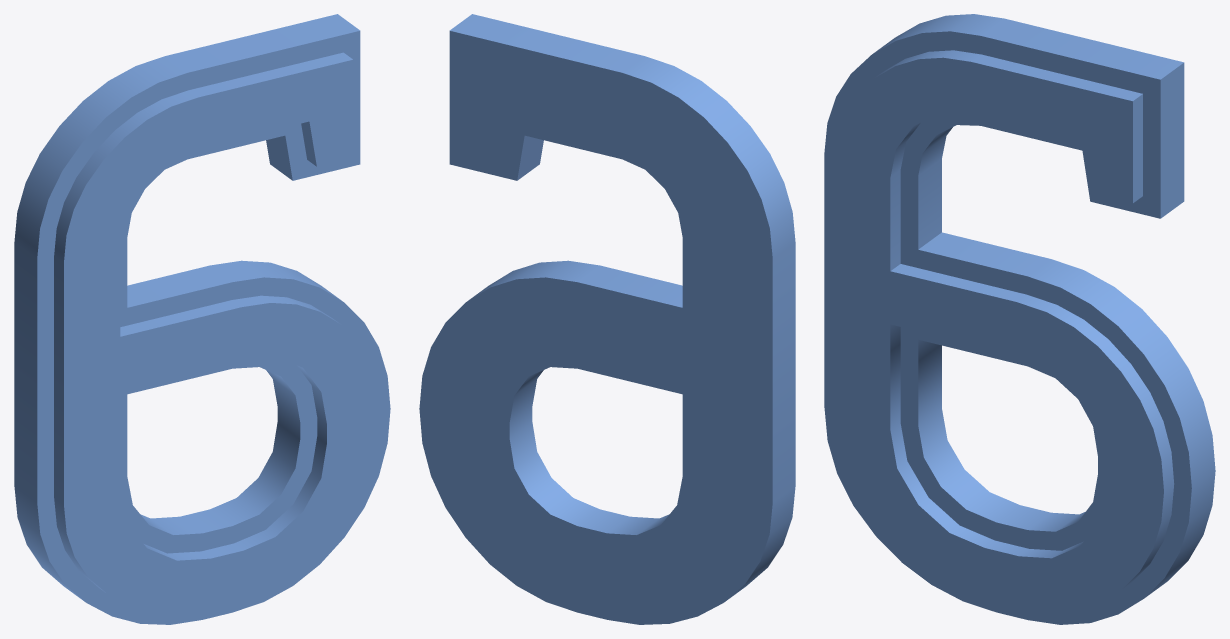
3 renders of one model, left to right at view 1: azimuth 30°, elevation 25°; view 2: azimuth 150°, elevation 25°; view 3: azimuth 330°, elevation 25°, orthographic. The views are drawn at different scales.
Parts seen in each view (by area): view 1: 6; view 2: 6; view 3: 6.
Boxes of the visible parts, box(x1,y1,x2,y2) form: 6: box(14, 14, 390, 624); 6: box(419, 14, 795, 624); 6: box(824, 14, 1215, 624).
Size of the model in its own units: 3.13 by 4.67 by 0.5.
